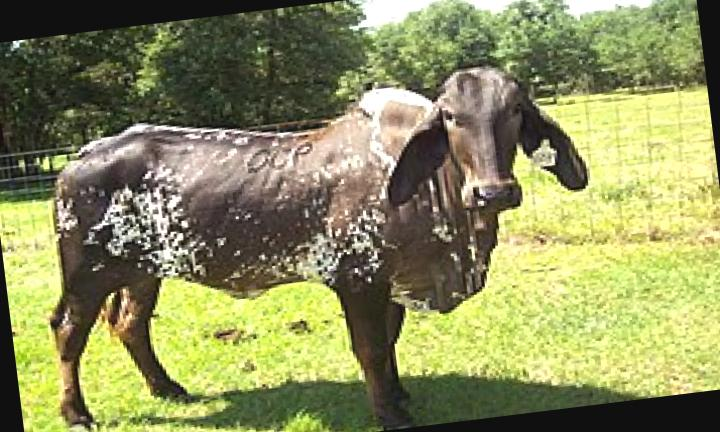Brahman: (53, 66, 587, 428)
